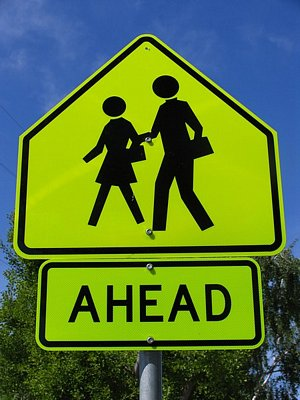slow: (11, 33, 290, 259)
